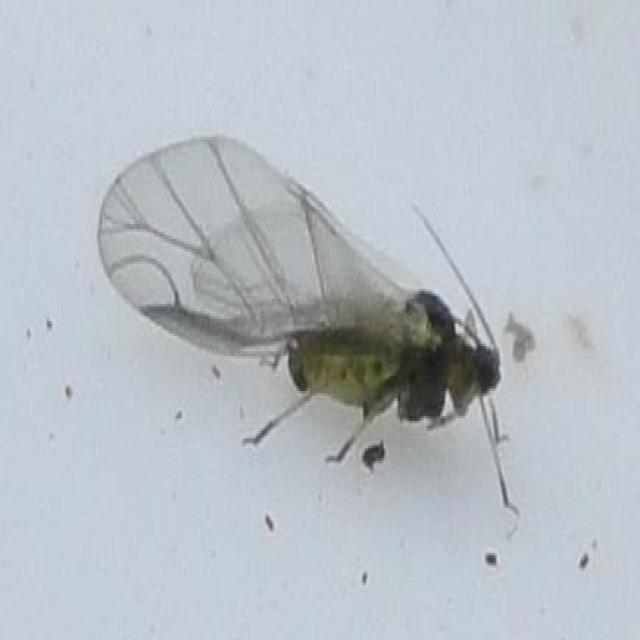Aphids: (83, 115, 538, 534)
